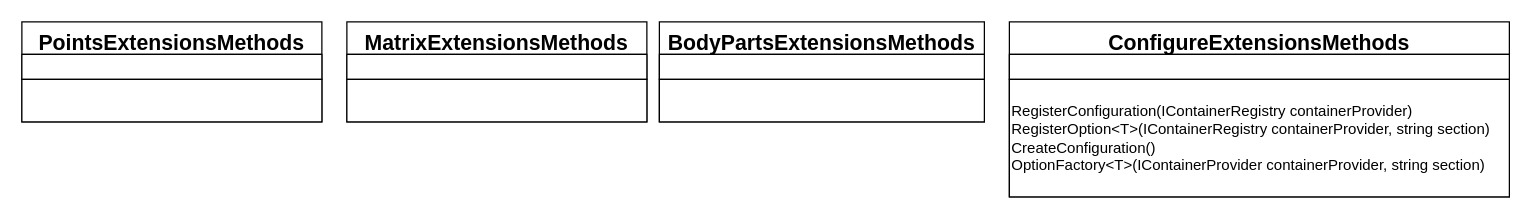
This 1531x219 diagram has some shape labels left out. Here are the shapes that lost their labels. From the top down, the centre of each, then its label:
At [171,100]: "Average(Point[] points) IsEmpty(Point point)".
At [496,100]: "GetArray<T>(T[,] matrix, int index) At<T>(Mat mat, int i0, int i1)".
At [821,100]: "HasLinks(BodyPart part) GetLinkedBodyParts(BodyPart part)".
